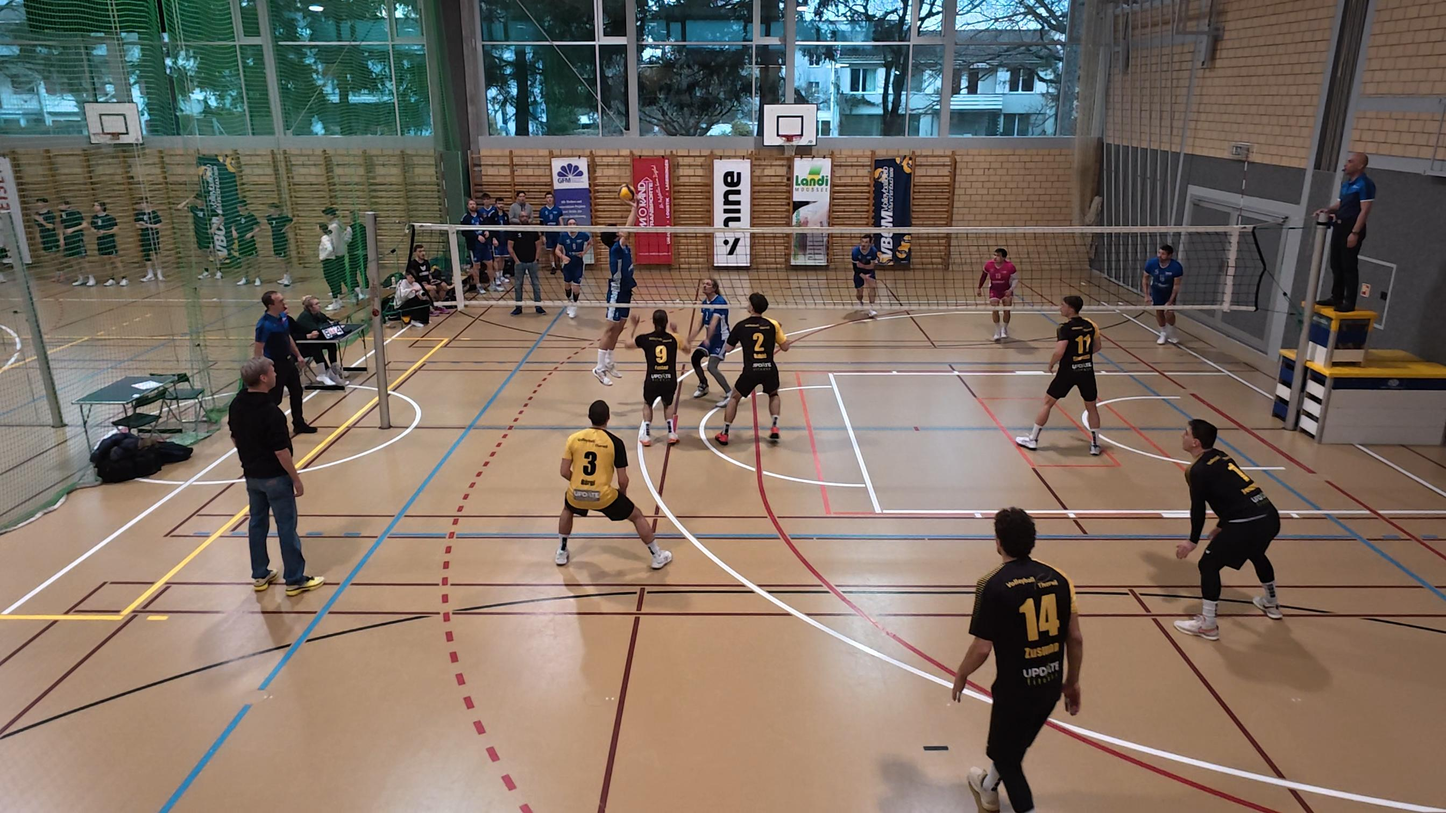Player: (951, 507, 1082, 812), (1174, 419, 1282, 638), (554, 400, 671, 569), (1016, 294, 1102, 455), (712, 294, 791, 446), (628, 310, 686, 447), (684, 279, 733, 399), (1142, 244, 1184, 345), (977, 246, 1017, 342), (556, 220, 593, 319), (848, 234, 882, 319)
Set: (590, 191, 649, 387)
ball: (619, 182, 635, 199)
